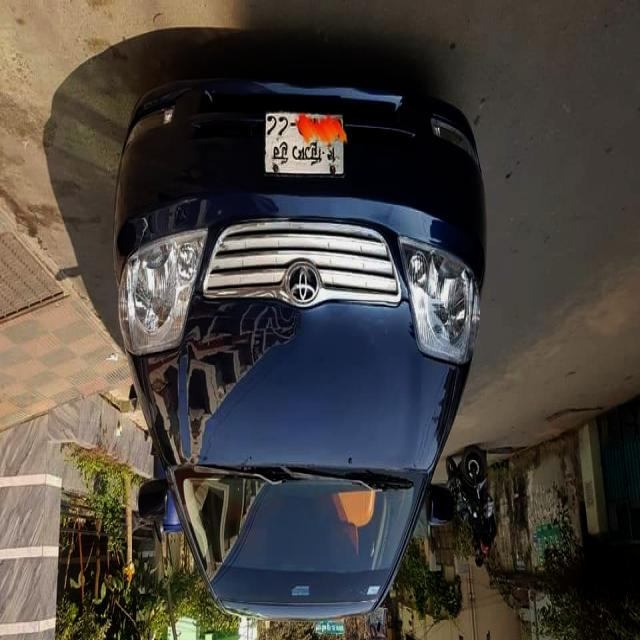blue: (112, 89, 512, 623)
